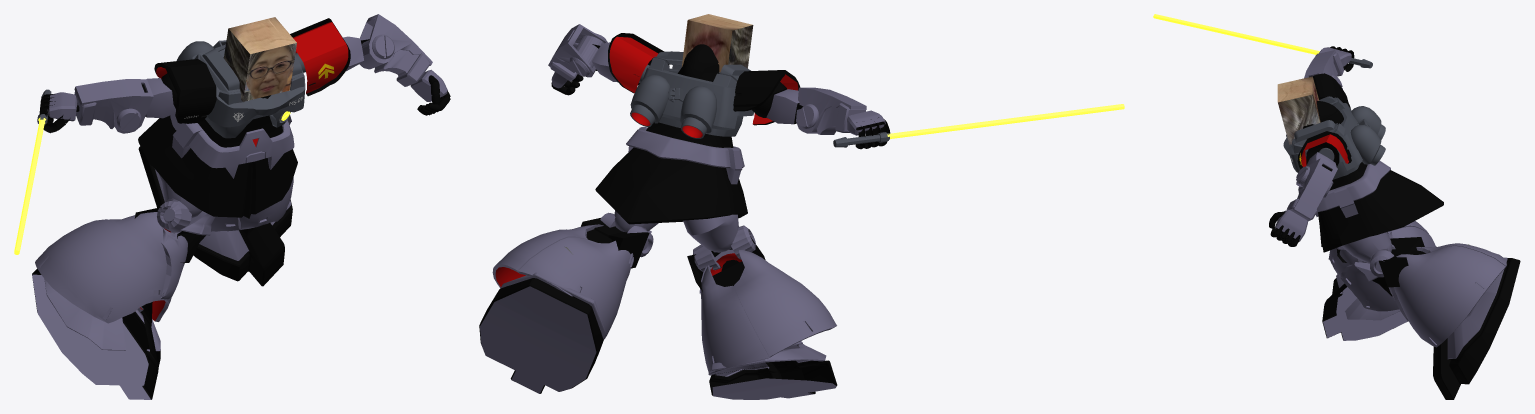
File: okami1.glb
3 renders of one model, left to right at view 1: azimuth 30°, elevation 25°; view 2: azimuth 150°, elevation 25°; view 3: azimuth 270°, elevation 25°, orthographic. The views are drawn at different scales.
Visible parts, largest first — view 1: Body.001_48, leg01.003_46, Plane.006_44, Plane.007_34, 立方体, Cylinder.011_40, Cylinder.017_30, LeftArm.001_32, RightArm.001_42, leg01.004_36, Plane.005_38, Plane.008_28 (+5 smaller); view 2: Body.001_48, leg01.003_46, Plane.007_34, leg01.004_36, Plane.006_44, 立方体, Cylinder.011_40, LeftArm.001_32, Cylinder.017_30, RightArm.001_42, RightLeg.001_47, Cylinder.018_49 (+4 smaller); view 3: Body.001_48, leg01.004_36, Plane.007_34, Plane.006_44, leg01.003_46, 立方体, Cylinder.017_30, Cylinder.015_33, Plane.008_28, Cylinder.018_49, LeftLeg.001_37, Cylinder.011_40 (+6 smaller).
Part boxes in pixels (x1,y1,x2,y2): Body.001_48: (138, 40, 305, 218); leg01.003_46: (35, 200, 206, 323); Plane.006_44: (32, 268, 160, 399); Plane.007_34: (138, 146, 292, 286); 立方体: (223, 17, 296, 101); Cylinder.011_40: (74, 79, 153, 133); Cylinder.017_30: (359, 14, 432, 86); LeftArm.001_32: (290, 18, 350, 96); RightArm.001_42: (154, 59, 216, 123); leg01.004_36: (211, 177, 293, 231); Plane.005_38: (39, 92, 77, 133); Plane.008_28: (410, 69, 450, 115); Body.001_48: (595, 51, 753, 224); leg01.003_46: (693, 225, 836, 374); Plane.007_34: (479, 246, 605, 393); leg01.004_36: (492, 212, 653, 339); Plane.006_44: (708, 341, 837, 399); 立方体: (682, 14, 753, 81); Cylinder.011_40: (796, 87, 866, 134); LeftArm.001_32: (608, 33, 669, 93); Cylinder.017_30: (548, 24, 607, 81); RightArm.001_42: (733, 70, 800, 125); RightLeg.001_47: (683, 214, 738, 252); Cylinder.018_49: (887, 104, 1124, 138); Body.001_48: (1283, 96, 1443, 252); leg01.004_36: (1370, 243, 1506, 347); Plane.007_34: (1433, 244, 1520, 399); Plane.006_44: (1322, 246, 1436, 340); leg01.003_46: (1328, 221, 1435, 311); 立方体: (1277, 76, 1320, 144); Cylinder.017_30: (1286, 158, 1337, 221); Cylinder.015_33: (1378, 237, 1424, 287); Plane.008_28: (1269, 210, 1307, 246); Cylinder.018_49: (1153, 14, 1319, 54); LeftLeg.001_37: (1342, 232, 1392, 263); Cylinder.011_40: (1304, 50, 1344, 89).
Bounding box in the file's own units: 19.69 × 13.27 × 15.3.
Materials: 11 (1 with a texture image).
